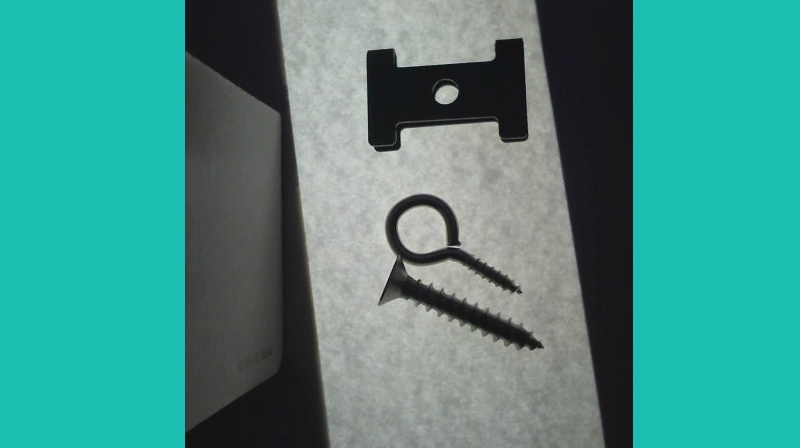O001: (385, 192, 523, 293)
O002: (361, 32, 531, 151)
S001: (376, 256, 546, 351)
